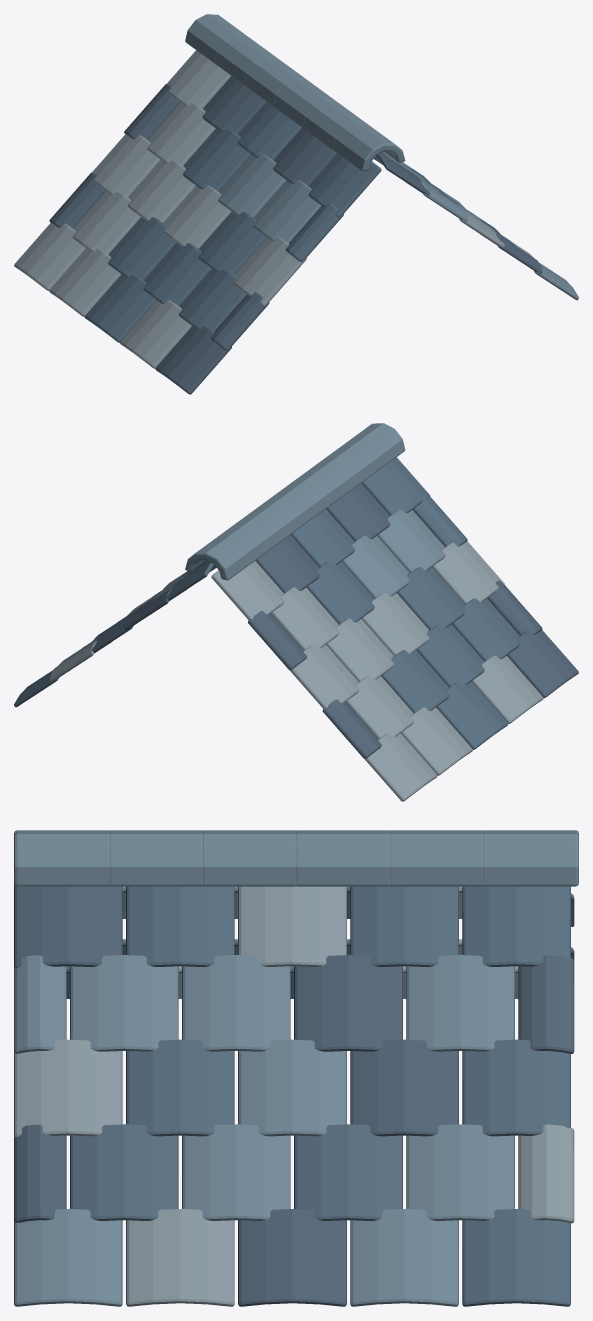
The model's file is roof_gable_2x2m__finish.glb.
The picture shows the model from 3 angles, top to bottom: view 1: azimuth 30°, elevation 25°; view 2: azimuth 150°, elevation 25°; view 3: azimuth 270°, elevation 25°; orthographic projection. The views are drawn at different scales.
Parts seen in each view (by area): view 1: roof_gable_2x2m__finish__mesh_00; view 2: roof_gable_2x2m__finish__mesh_00; view 3: roof_gable_2x2m__finish__mesh_00.
Boxes of the visible parts, bbox=[...] form: roof_gable_2x2m__finish__mesh_00: bbox=[14, 14, 578, 394]; roof_gable_2x2m__finish__mesh_00: bbox=[14, 423, 578, 801]; roof_gable_2x2m__finish__mesh_00: bbox=[14, 830, 578, 1306].
Bounding box in the file's own units: 2.6 × 1.27 × 2.02.
